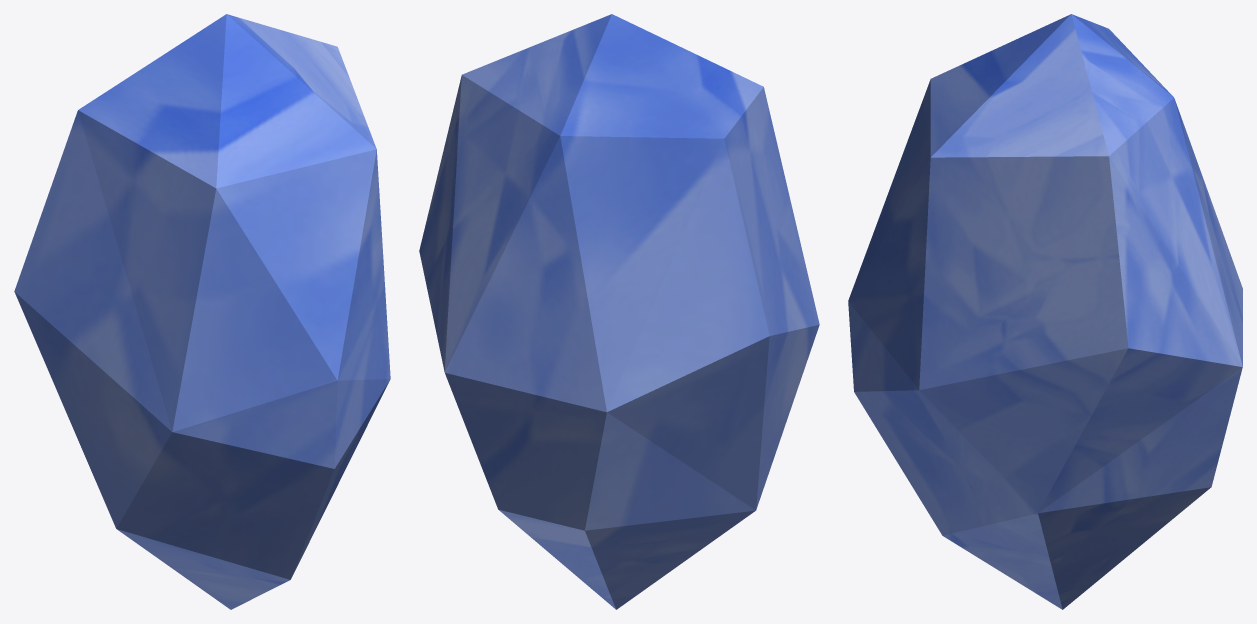
The model's file is cristalCongelado.fbx.
The picture shows the model from 3 angles, left to right: view 1: azimuth 30°, elevation 25°; view 2: azimuth 150°, elevation 25°; view 3: azimuth 270°, elevation 25°; orthographic projection.
Visible parts, largest first — view 1: cristal_0; view 2: cristal_0; view 3: cristal_0.
Boxes of the visible parts, <box> form: cristal_0: <box>14,14,390,609</box>; cristal_0: <box>419,14,819,609</box>; cristal_0: <box>848,14,1242,609</box>.
Bounding box in the file's own units: 183 × 300 × 180.
Materials: 1 (1 with a texture image).
